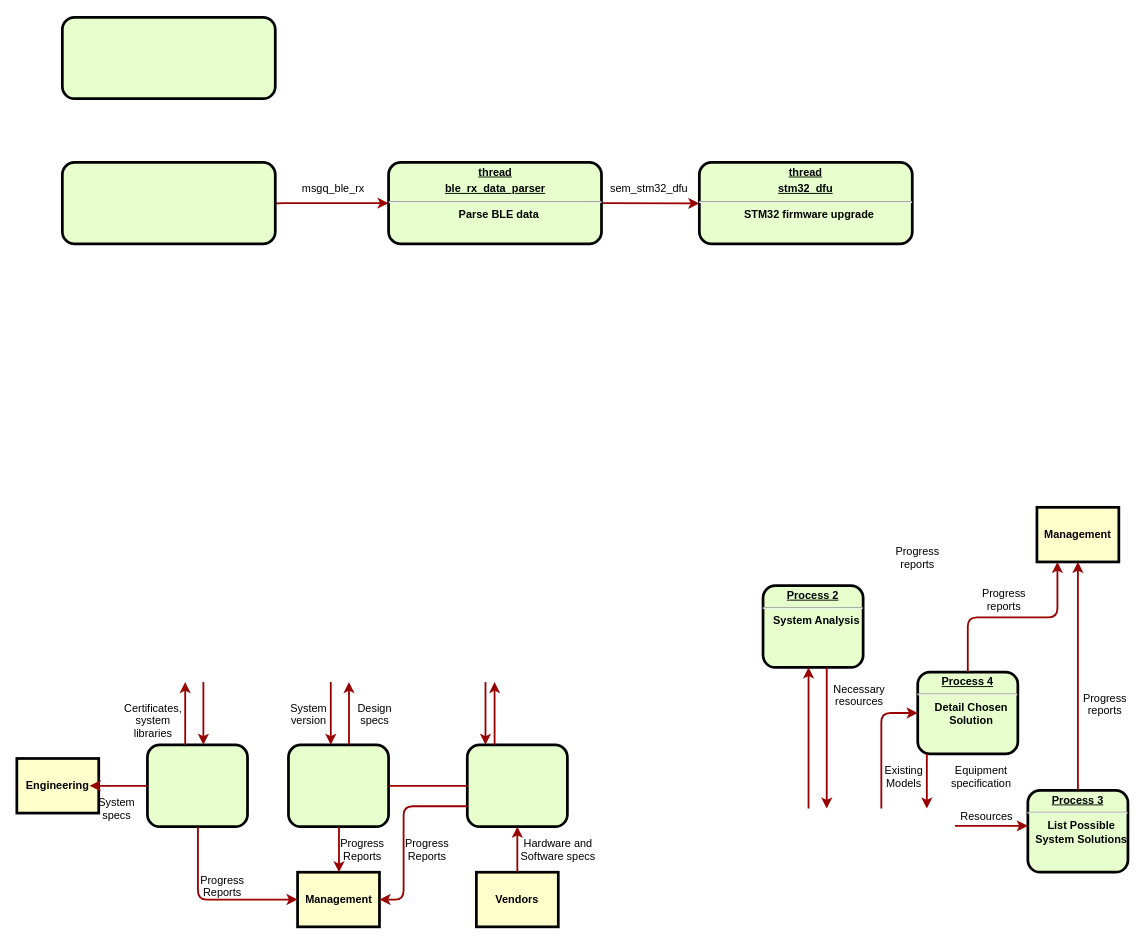
Image size: 1145x944. Some labels were removed from this diagram. The centre of each missing label's shape, as x and y in pixels:
"Process 5 New System Design" belongs at [516,785].
"Process 6 New System Construction" belongs at [197,785].
"Process 7 New System Startup and Testing" belongs at [338,785].
"thread BT RX Receive BLE data into message queue" belongs at [168,203].
"thread main Initialize the device tree Enable BLE broadcast" belongs at [168,57].
